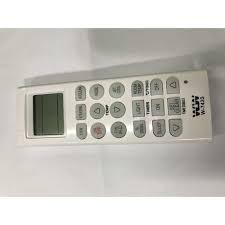remote control: (17, 80, 211, 144)
